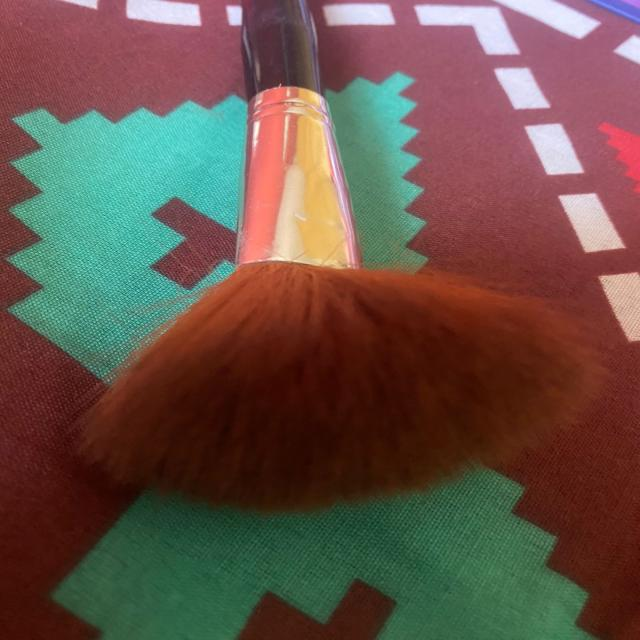brush: (43, 0, 620, 544)
